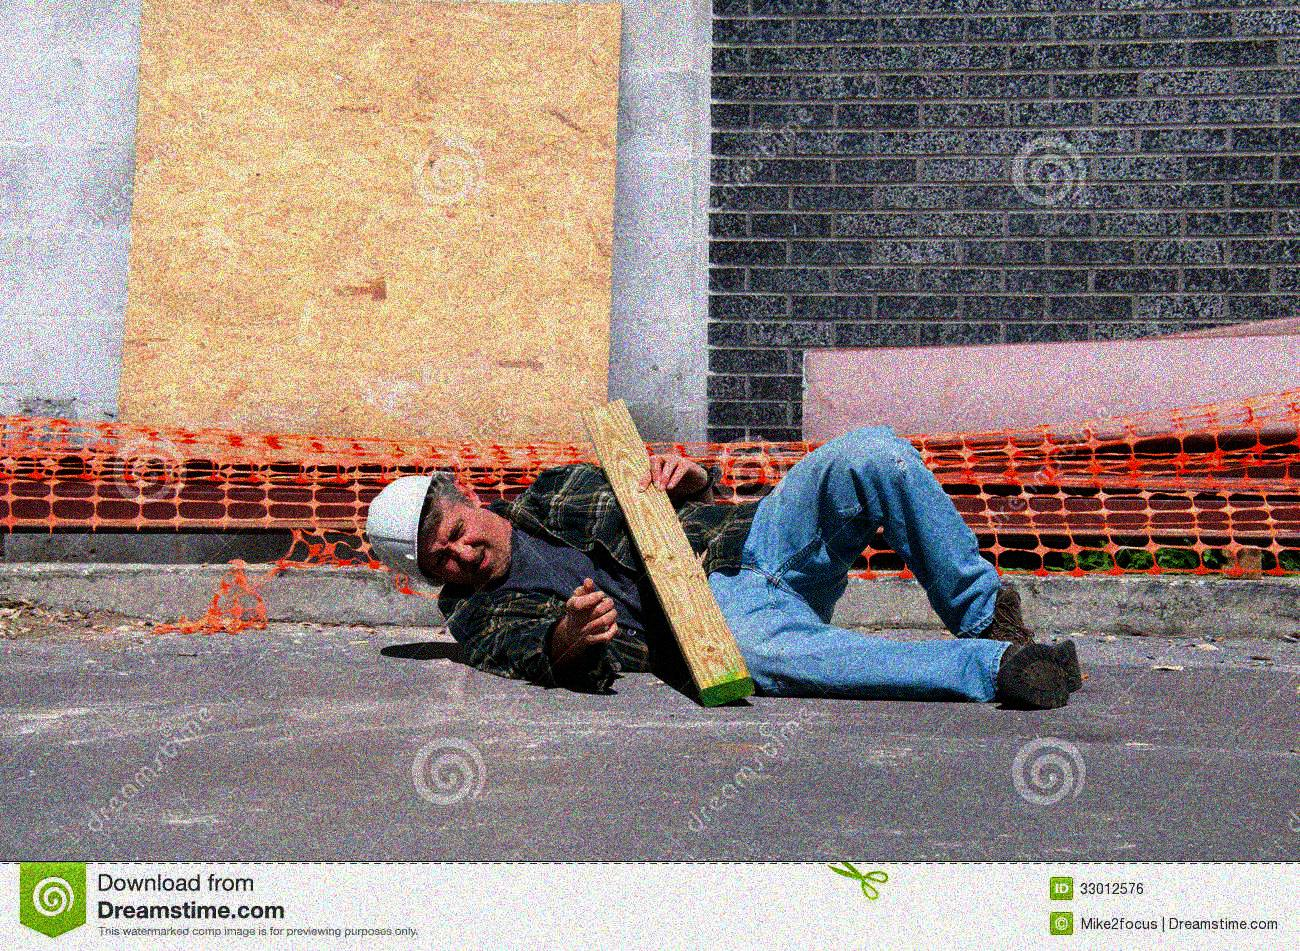helmet: (365, 471, 517, 587)
